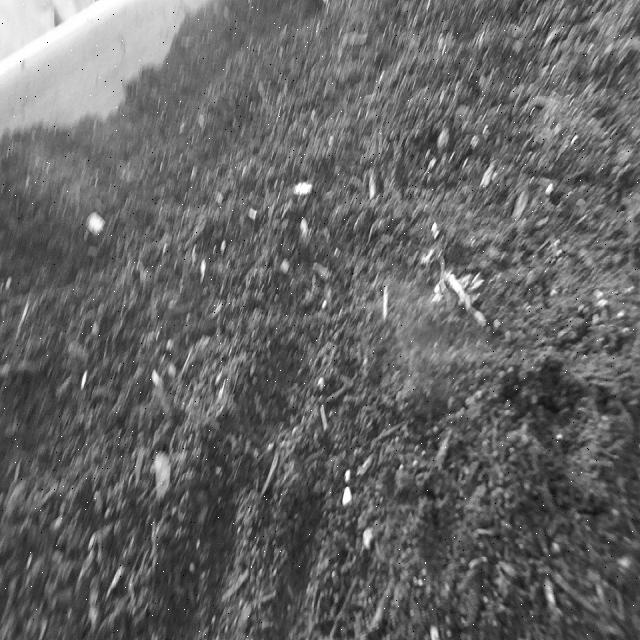Unhealthy: (417, 218, 505, 345)
